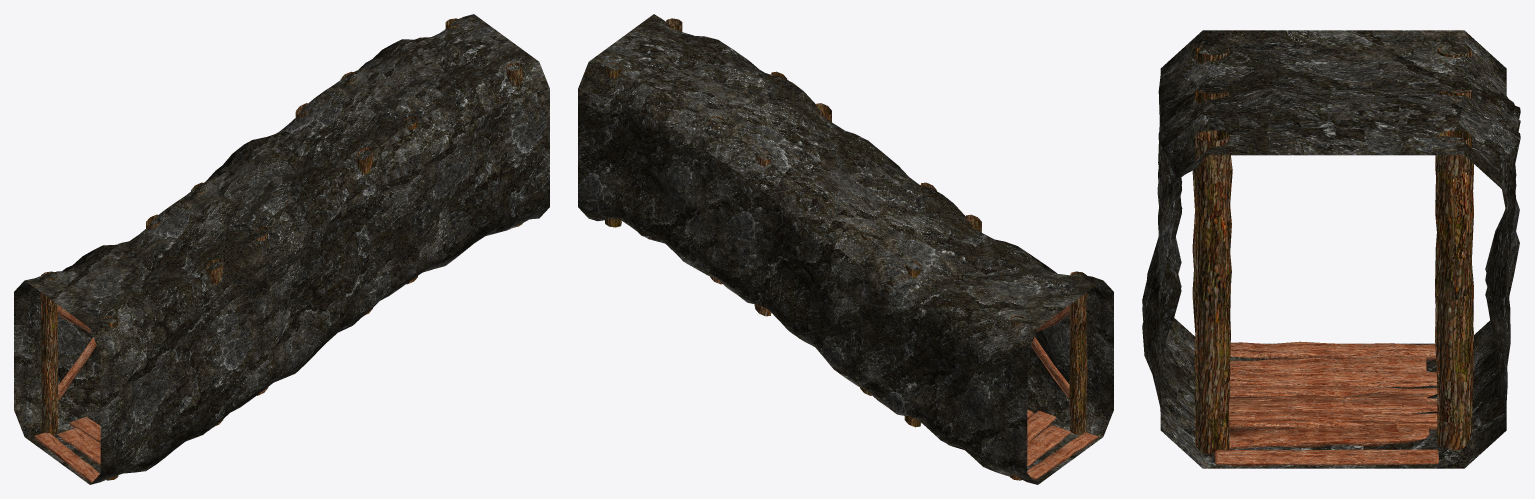
Rendered from Cave_026.fbx.
The picture shows the model from 3 angles, left to right: view 1: azimuth 30°, elevation 25°; view 2: azimuth 150°, elevation 25°; view 3: azimuth 270°, elevation 25°; orthographic projection. The views are drawn at different scales.
Visible parts, largest first — view 1: Cave.026; view 2: Cave.026; view 3: Cave.026.
Part boxes in pixels (<box>): Cave.026: <box>14,14,549,484</box>; Cave.026: <box>578,14,1113,484</box>; Cave.026: <box>1142,30,1520,468</box>.
Size of the model in its own units: 900 by 604 by 328.
